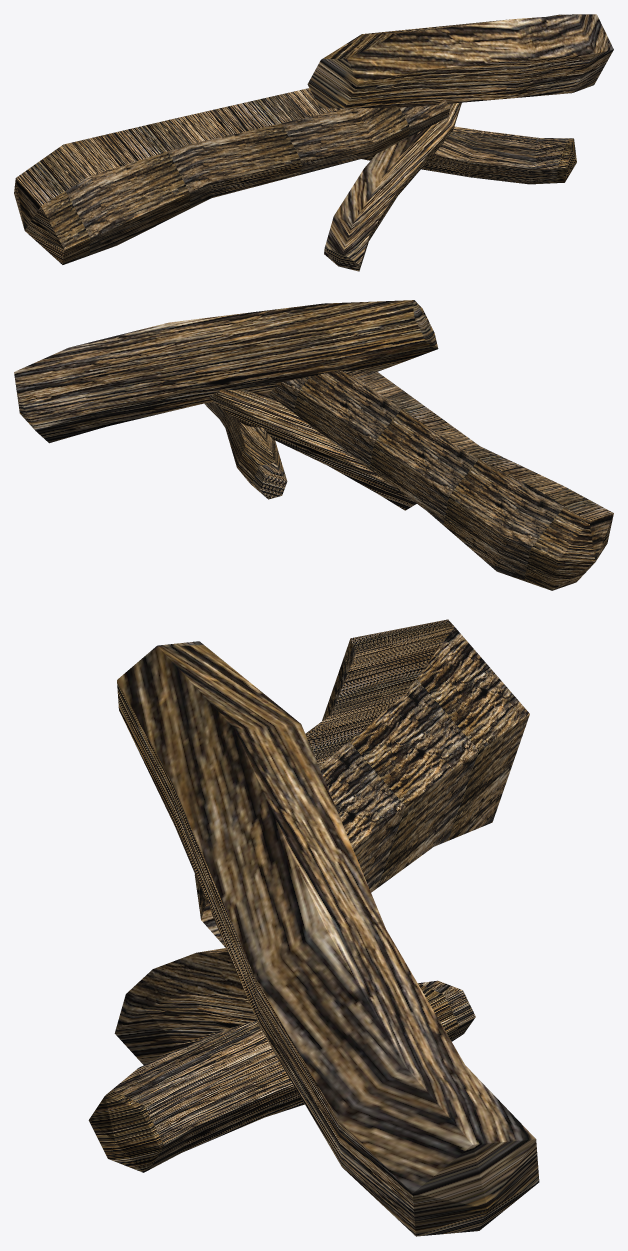
File: LivingRoom_FireplaceWoods.FBX
The picture shows the model from 3 angles, top to bottom: view 1: azimuth 30°, elevation 25°; view 2: azimuth 150°, elevation 25°; view 3: azimuth 270°, elevation 25°; orthographic projection. The views are drawn at different scales.
Visible parts, largest first — view 1: FirePlace_Woods; view 2: FirePlace_Woods; view 3: FirePlace_Woods.
Part boxes in pixels (x1=…): FirePlace_Woods: x1=14, y1=14, x2=613, y2=271; FirePlace_Woods: x1=14, y1=300, x2=613, y2=590; FirePlace_Woods: x1=88, y1=619, x2=539, y2=1236.
Bounding box in the file's own units: 1.04 × 0.3575 × 0.3544.
